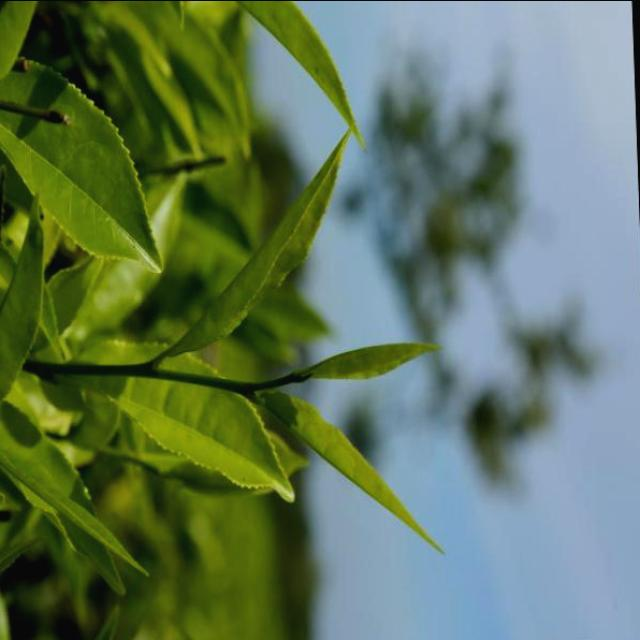Stem: (232, 380, 248, 397)
